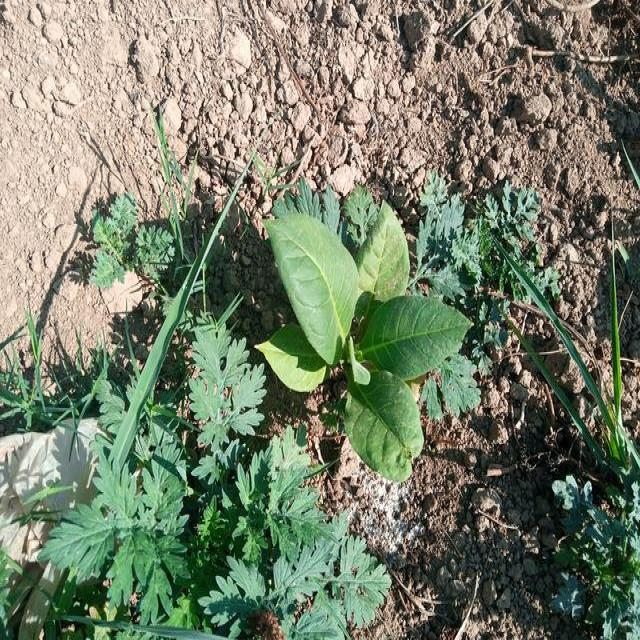crop: (248, 196, 474, 482)
